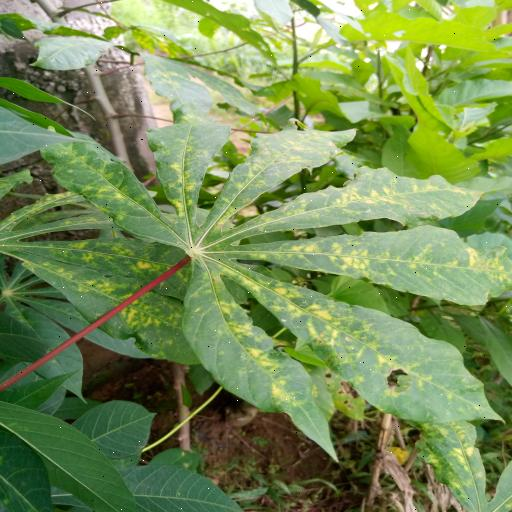Cassava_Mosaic: (12, 99, 512, 468)
